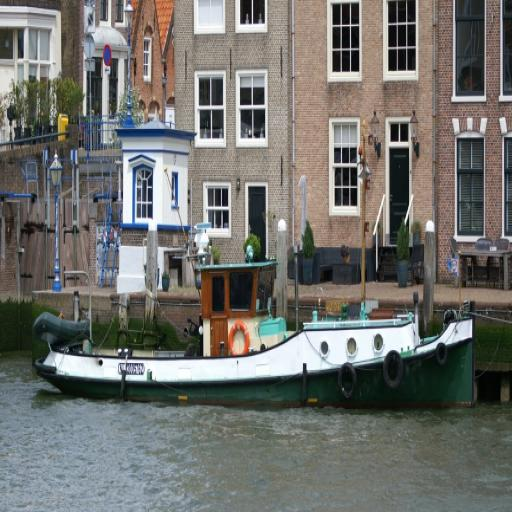tugboat: (28, 243, 478, 425)
